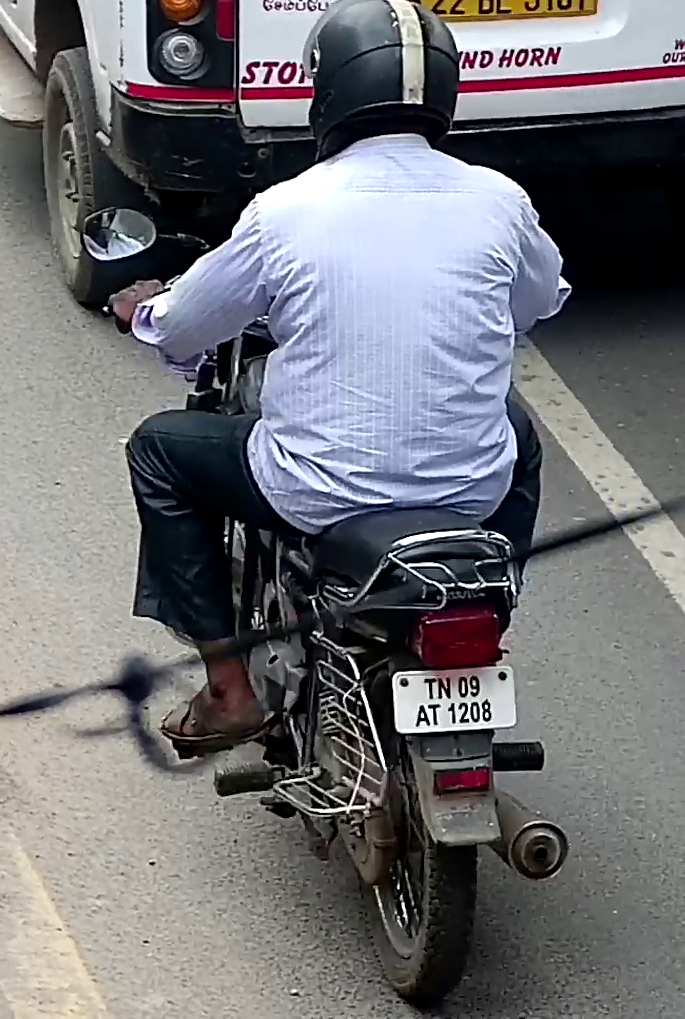0: (469, 701, 480, 723), (458, 676, 468, 698)
1: (447, 703, 456, 725)
2: (457, 702, 469, 724)
8: (480, 699, 492, 722)
9: (469, 675, 480, 697)
A: (416, 705, 428, 727)
N: (437, 677, 451, 699)
P16: (390, 665, 518, 736)
T: (423, 678, 437, 699), (429, 703, 441, 725)
